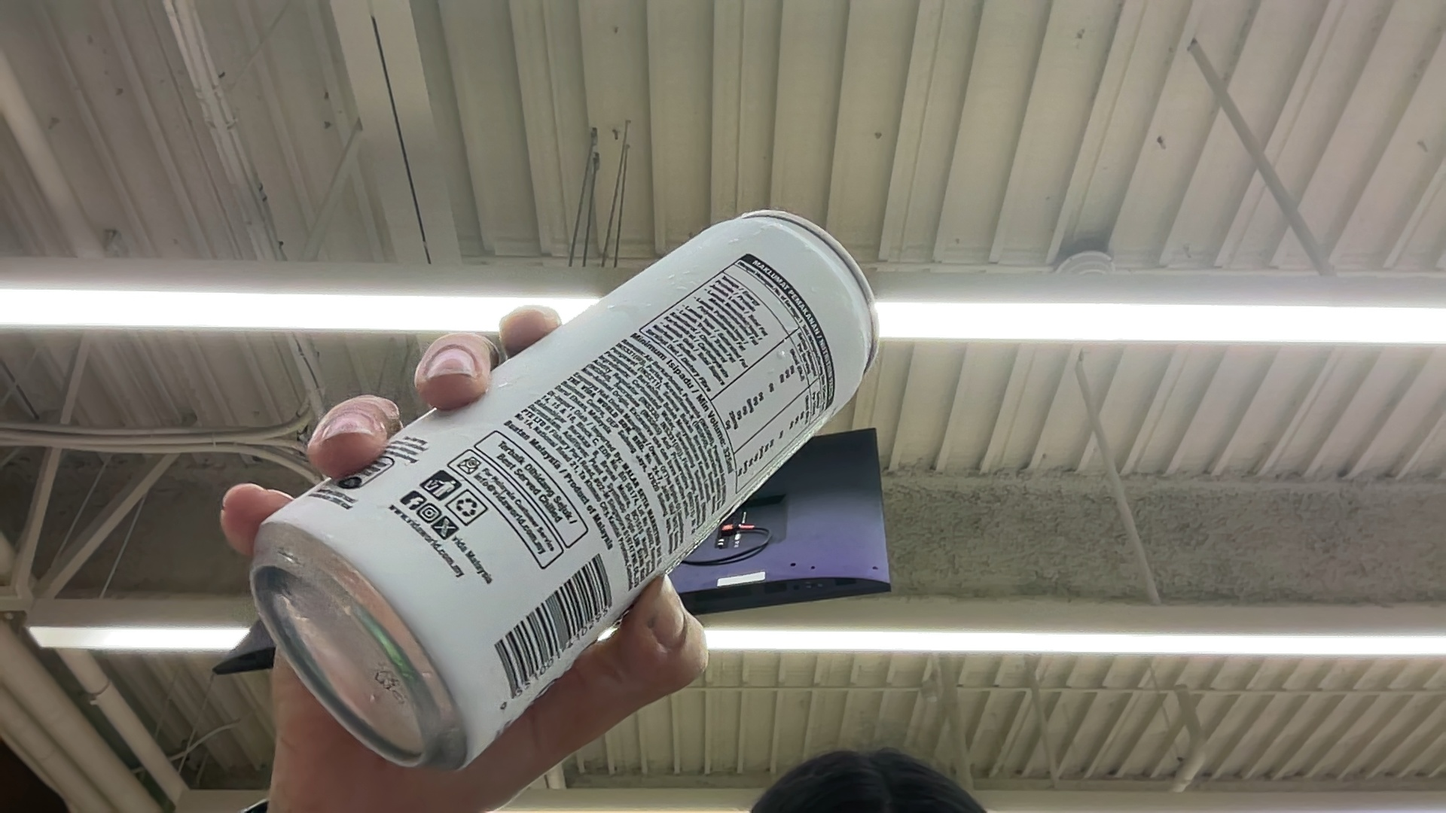Metal: (65, 188, 917, 778)
